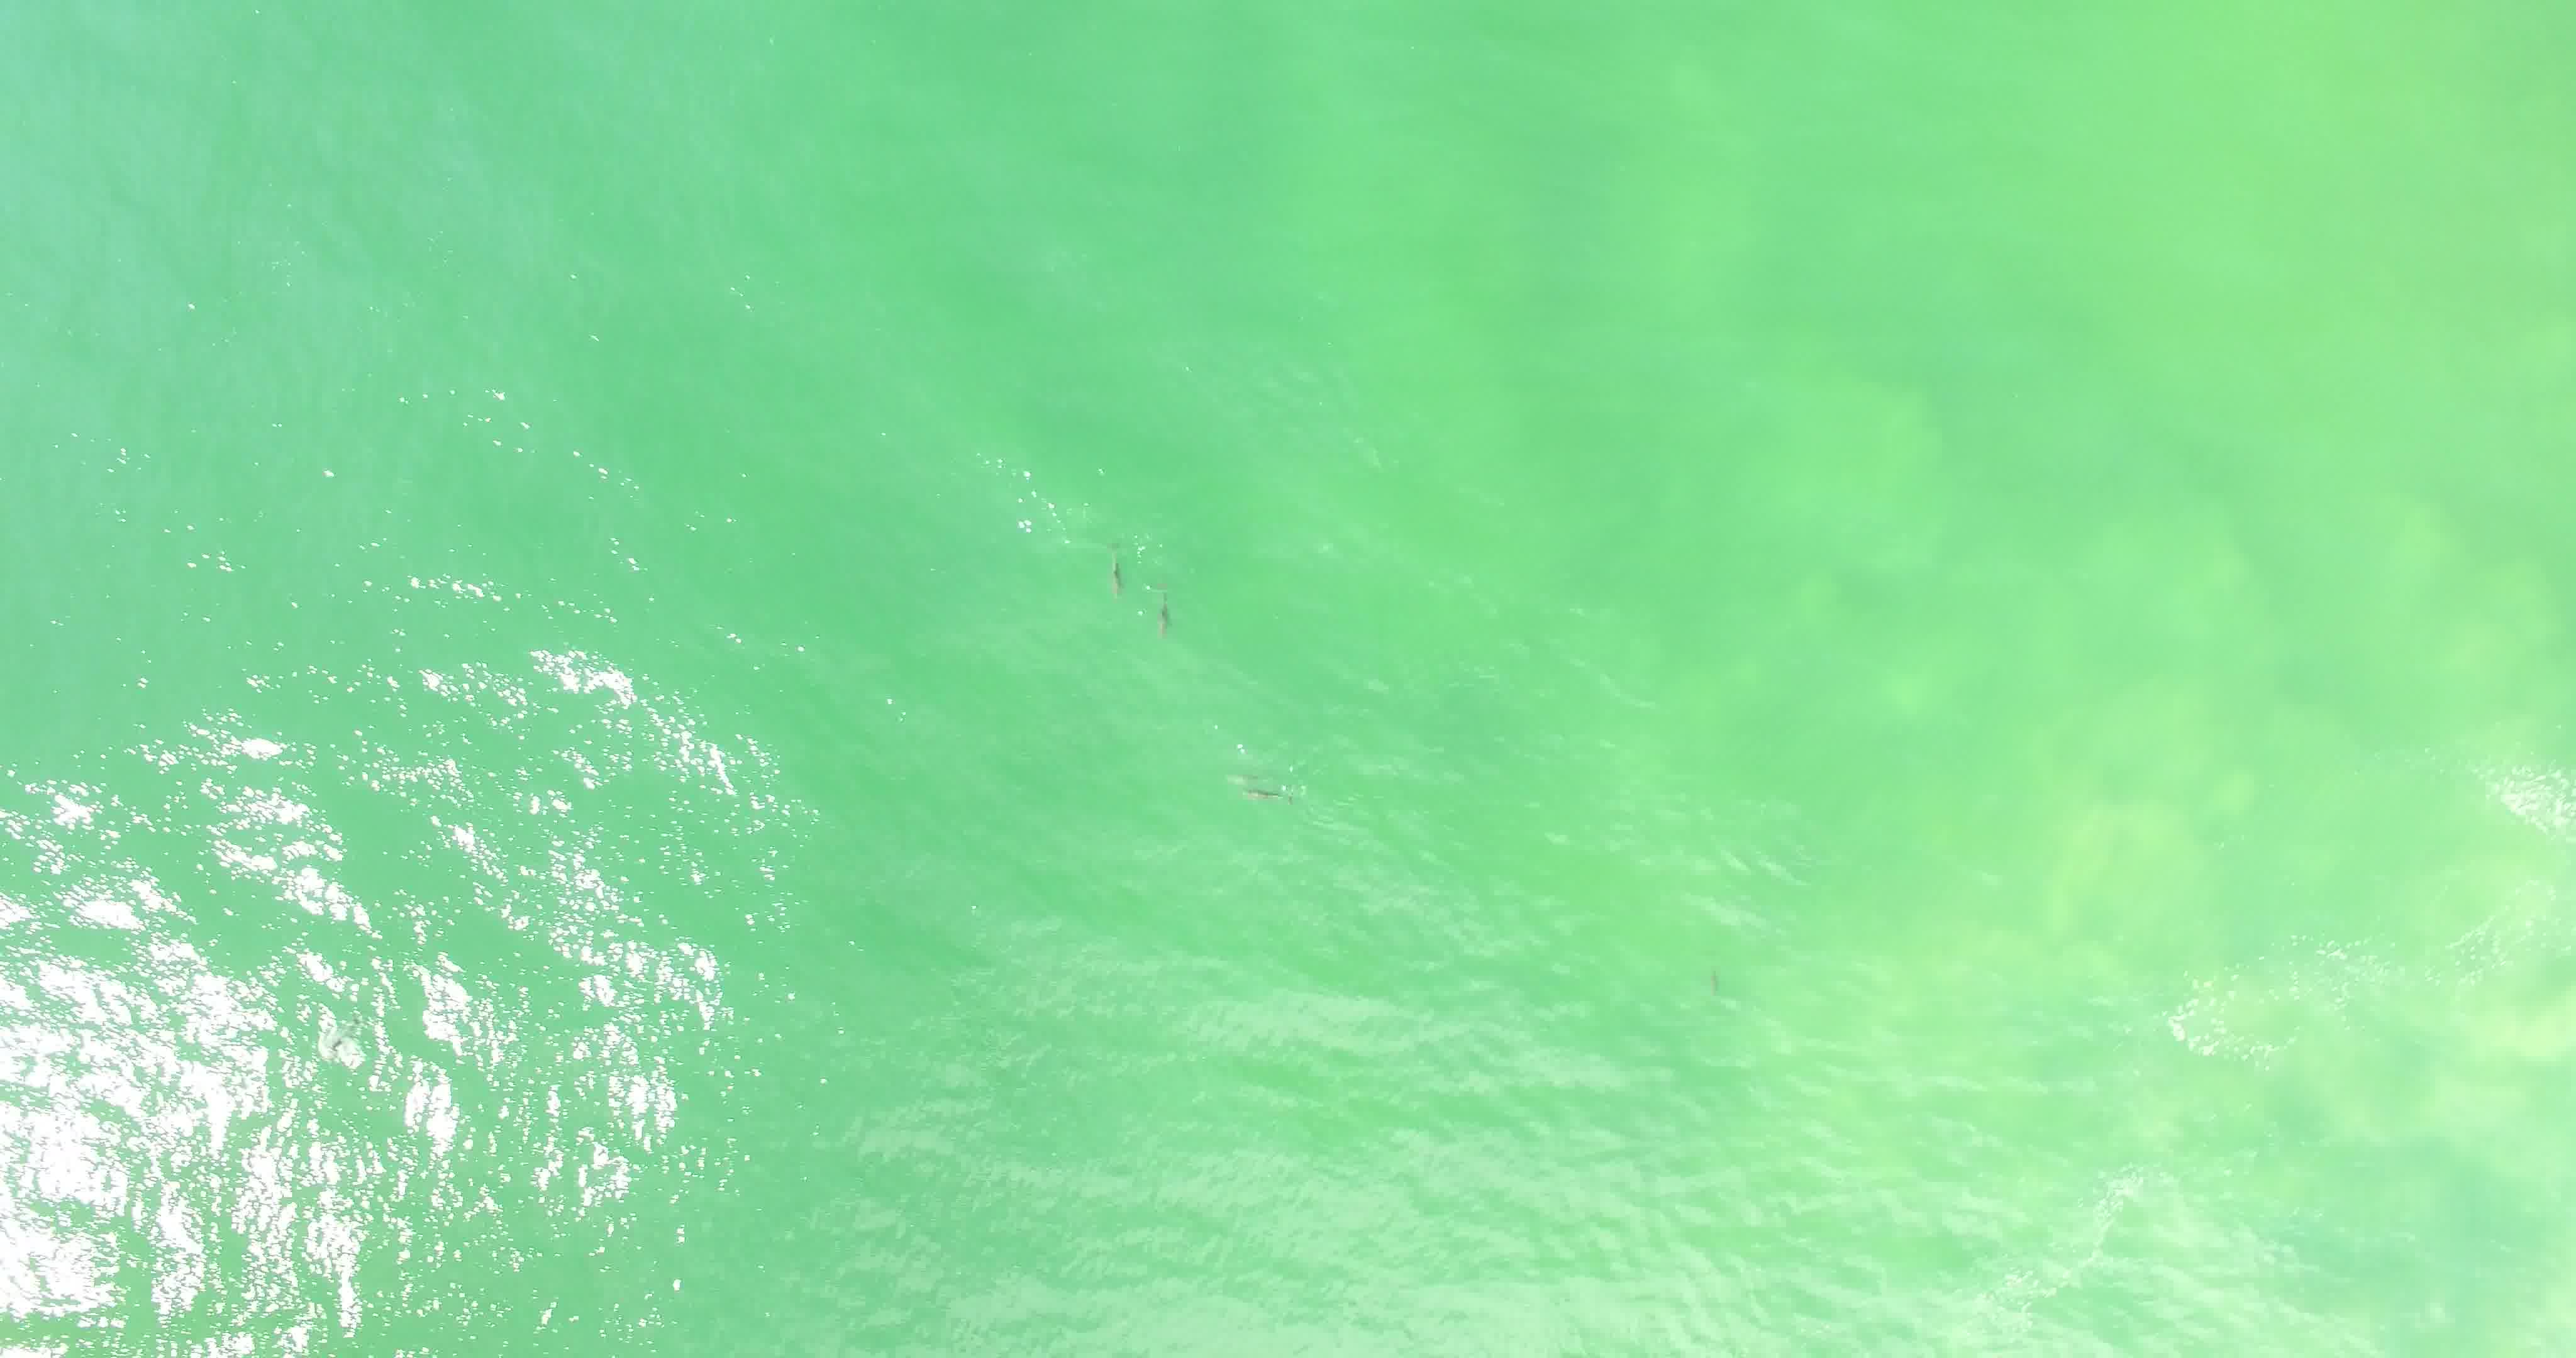dolphin: (1213, 741, 1305, 816), (1082, 525, 1136, 608), (1136, 557, 1182, 644)
